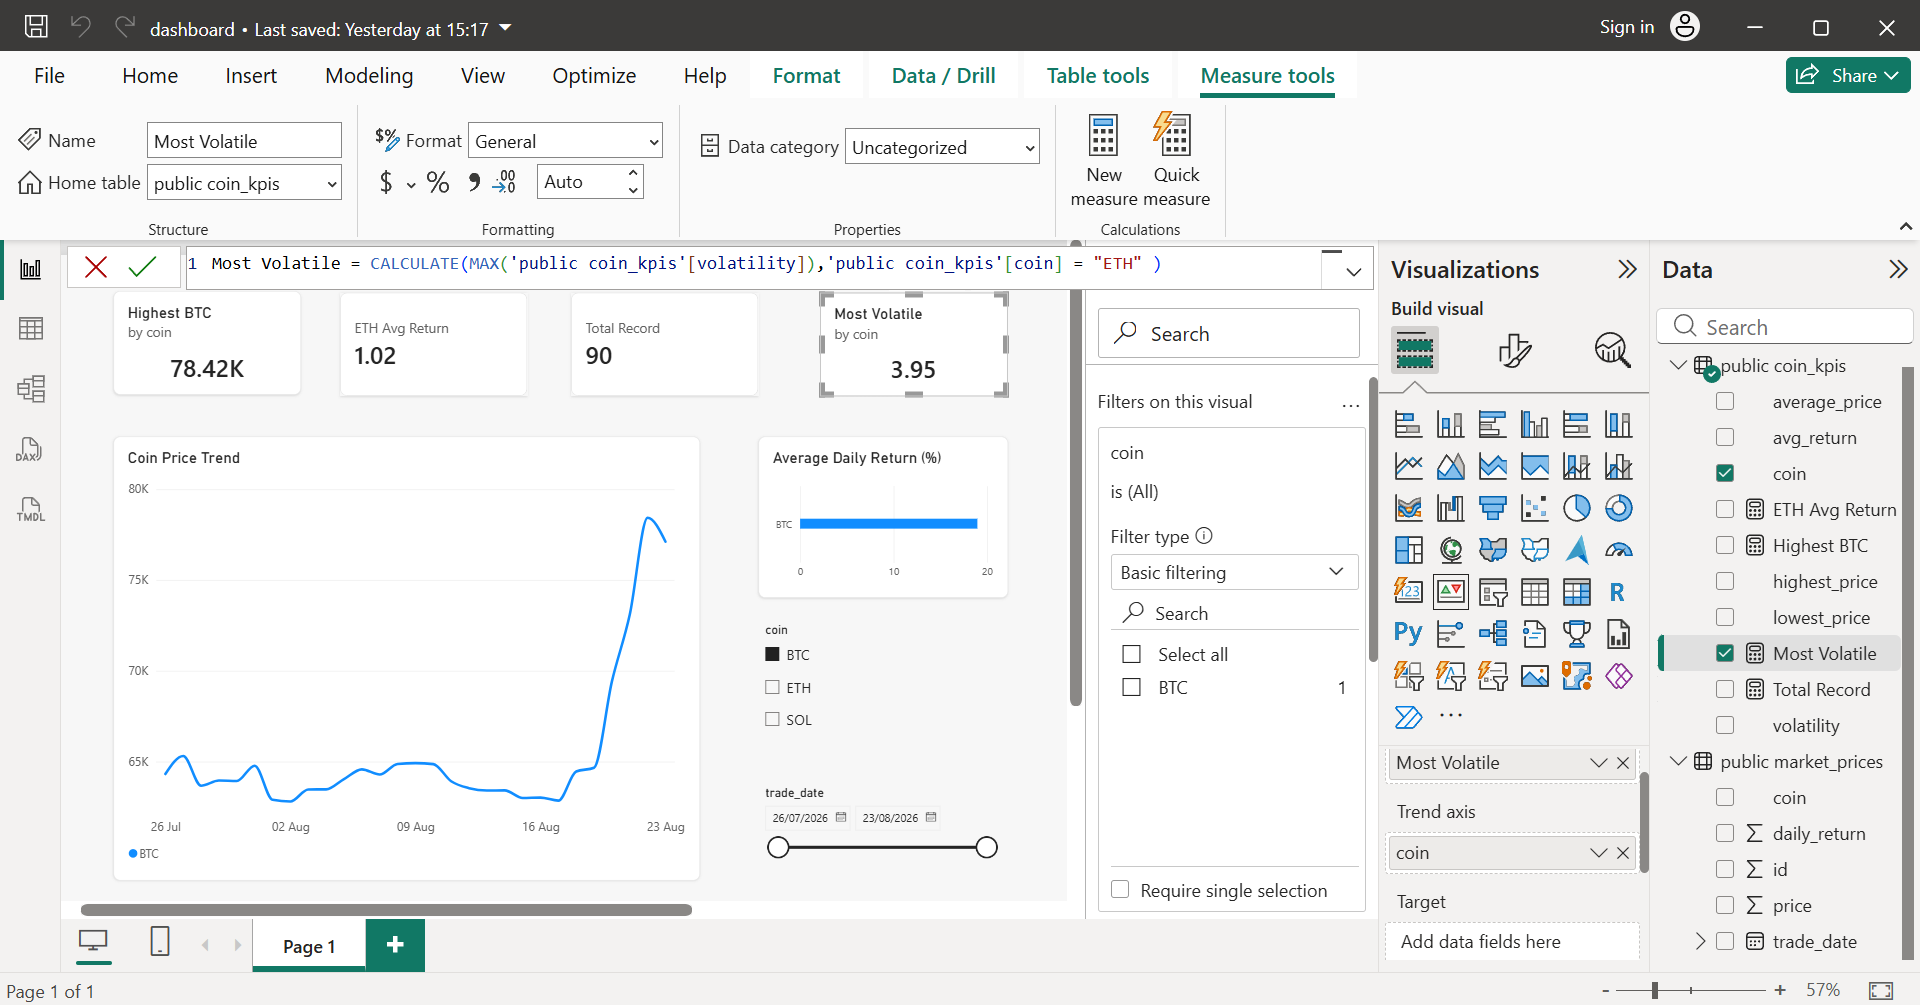

The page's visual inventory and layout, read from the dashboard file:
{"tool":"powerbi","page":{"name":"Page 1","canvas":[1920,1080],"ordinal":0},"visuals":[{"type":"lineChart","title":"Coin Price Trend","fields":{"Category":["public market_prices.trade_date"],"Series":["public coin_kpis.coin"],"Y":["Sum(public market_prices.price)"]},"box":[82.5,212.3,686,519.3],"z":0},{"type":"clusteredBarChart","title":"Average Daily Return (%)","fields":{"Category":["public market_prices.coin"],"Y":["Sum(public market_prices.daily_return)"]},"box":[836.8,212.3,291.7,188.3],"z":1000},{"type":"slicer","fields":{"Values":["public coin_kpis.coin"]},"box":[836.8,429.8,292,140],"z":3000},{"type":"kpi","fields":{"Indicator":["public coin_kpis.Highest BTC"],"TrendLine":["public market_prices.coin"]},"box":[82.5,42.1,219.3,121.1],"z":5000},{"type":"cardVisual","fields":{"Data":["public coin_kpis.ETH Avg Return"]},"box":[347.4,43.9,219.3,121.1],"z":6000},{"type":"cardVisual","fields":{"Data":["public coin_kpis.Total Record"]},"box":[617.5,43.9,219.3,121.1],"z":7000},{"type":"slicer","fields":{"Values":["public market_prices.trade_date"]},"box":[836.8,621.1,292,150],"z":7001},{"type":"cardVisual","fields":{"Data":["public coin_kpis.Most Volatile Coin"]},"box":[863.2,42.1,266.7,122.8],"z":7002}]}

Visuals, with their boxes on the page's 1920x1080 design canvas (x1, y1, x2, y2). These are canvas units, not pixel positions in the 1920x1005 screenshot, which may show the page scaled, cropped or inside an application window:
"Coin Price Trend" lineChart: 82 212 768 732
"Average Daily Return (%)" clusteredBarChart: 837 212 1128 401
slicer - public coin_kpis.coin: 837 430 1129 570
kpi - public coin_kpis.Highest BTC x public market_prices.coin: 82 42 302 163
cardVisual - public coin_kpis.ETH Avg Return: 347 44 567 165
cardVisual - public coin_kpis.Total Record: 618 44 837 165
slicer - public market_prices.trade_date: 837 621 1129 771
cardVisual - public coin_kpis.Most Volatile Coin: 863 42 1130 165
